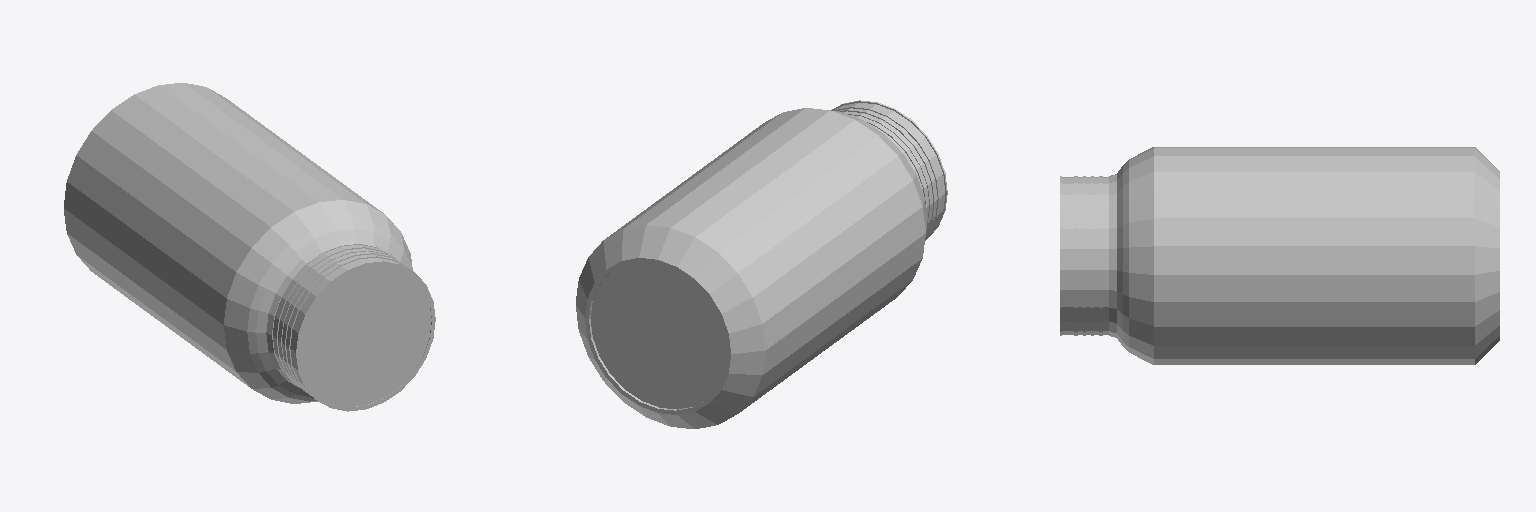
File: model_align.obj
3 renders of one model, left to right at view 1: azimuth 30°, elevation 25°; view 2: azimuth 150°, elevation 25°; view 3: azimuth 270°, elevation 25°, orthographic.
Visible parts, largest first — view 1: mesh1_mesh1-geometry; view 2: mesh1_mesh1-geometry; view 3: mesh1_mesh1-geometry.
Part boxes in pixels (left/top/right/bottom): mesh1_mesh1-geometry: left=64, top=83, right=435, bottom=411; mesh1_mesh1-geometry: left=576, top=100, right=947, bottom=428; mesh1_mesh1-geometry: left=1060, top=147, right=1499, bottom=364.
Size of the model in its own units: 0.107 by 0.107 by 0.214.